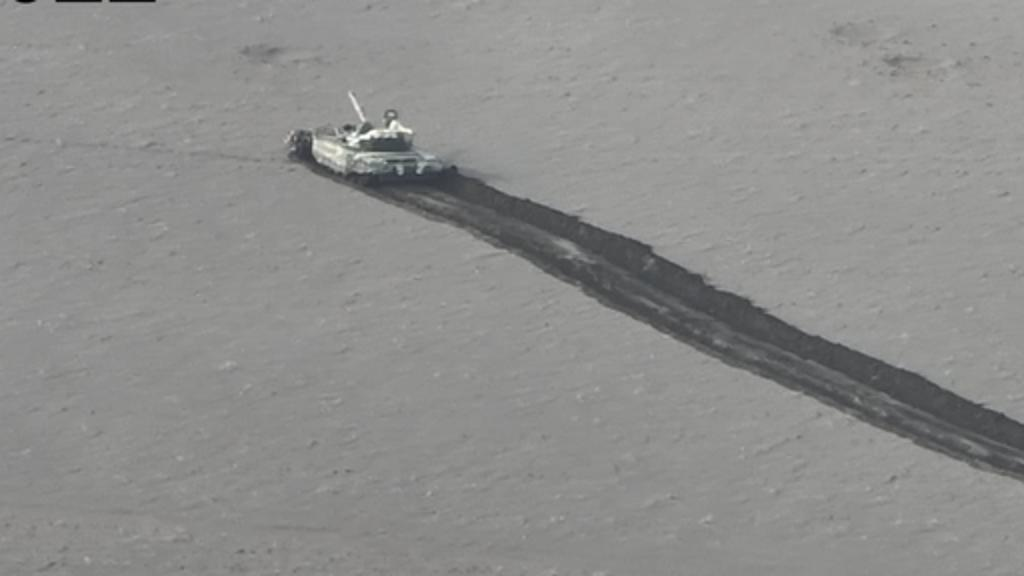TANK: (284, 88, 444, 186)
